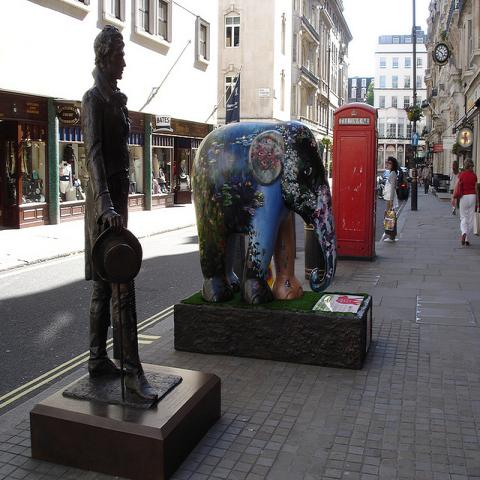car: (382, 170, 409, 199)
